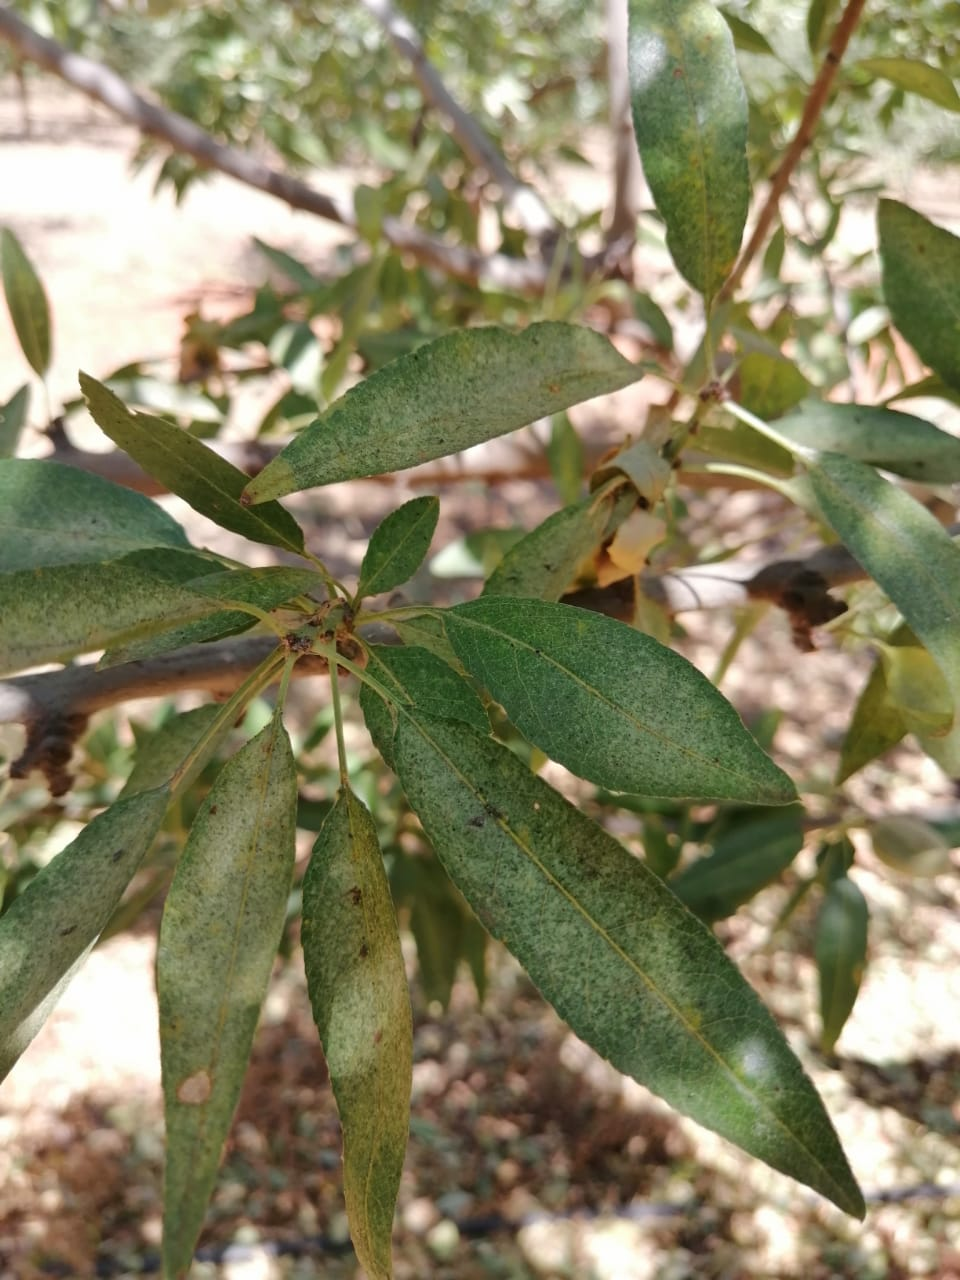acariens: (372, 660, 865, 1219), (153, 721, 298, 1280), (236, 315, 645, 508), (441, 595, 803, 811), (301, 787, 418, 1280), (628, 1, 753, 300), (1, 557, 228, 679)
